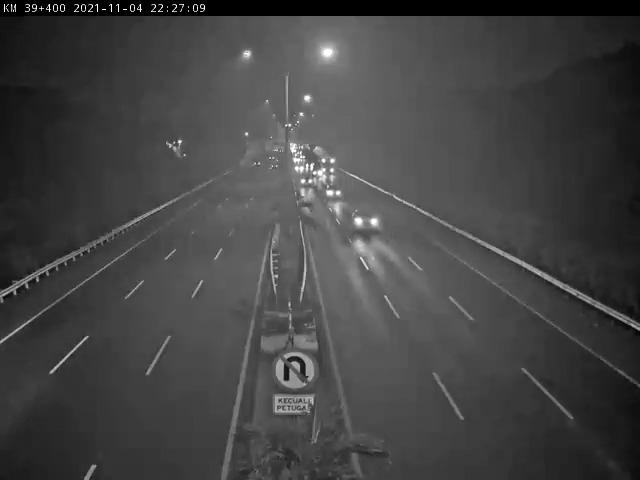car: (352, 207, 380, 233), (326, 184, 343, 199)
